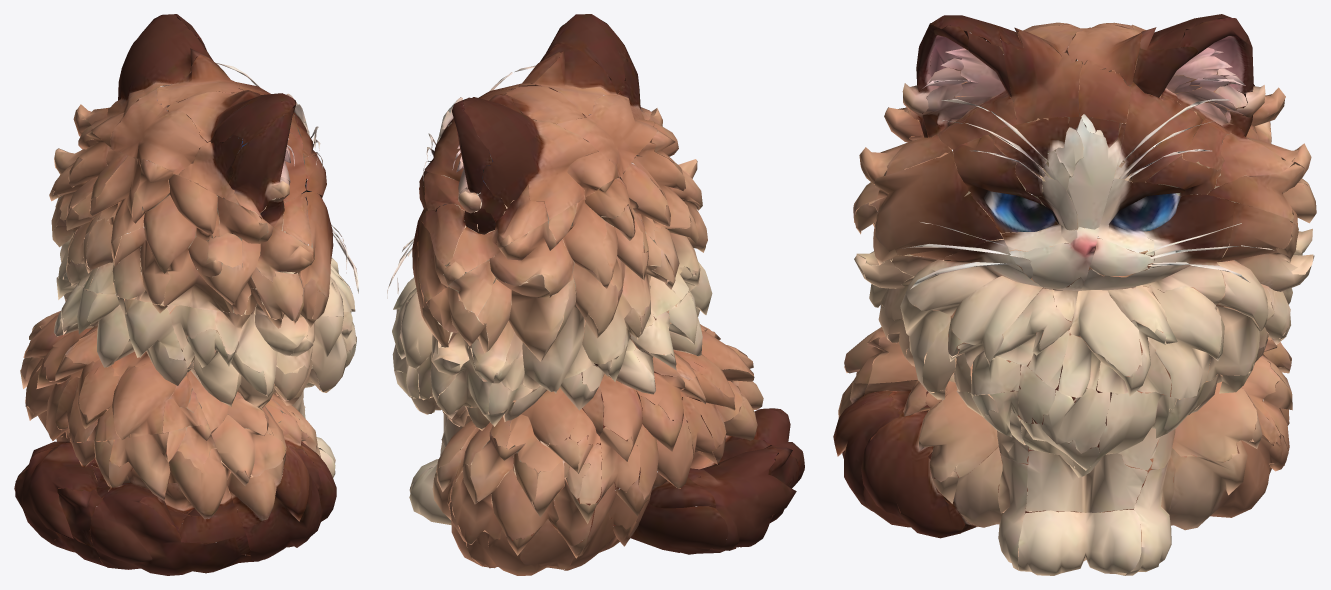
Rendered from buding.glb.
3 renders of one model, left to right at view 1: azimuth 30°, elevation 25°; view 2: azimuth 150°, elevation 25°; view 3: azimuth 270°, elevation 25°, orthographic. The views are drawn at different scales.
Visible parts, largest first — view 1: tripo_node_2eb70b39-5321-4493-bdc8-f041694c3dae; view 2: tripo_node_2eb70b39-5321-4493-bdc8-f041694c3dae; view 3: tripo_node_2eb70b39-5321-4493-bdc8-f041694c3dae.
Part boxes in pixels (x1=…): tripo_node_2eb70b39-5321-4493-bdc8-f041694c3dae: x1=14, y1=14, x2=358, y2=575; tripo_node_2eb70b39-5321-4493-bdc8-f041694c3dae: x1=387, y1=14, x2=804, y2=575; tripo_node_2eb70b39-5321-4493-bdc8-f041694c3dae: x1=833, y1=14, x2=1316, y2=575.
Size of the model in its own units: 0.7803 by 0.9817 by 0.8333.
Materials: 1 (1 with a texture image).
